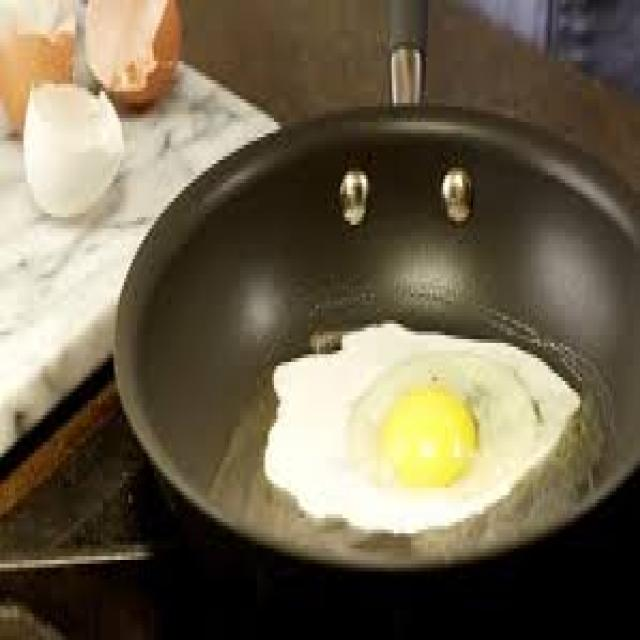Egg: (264, 323, 580, 533)
